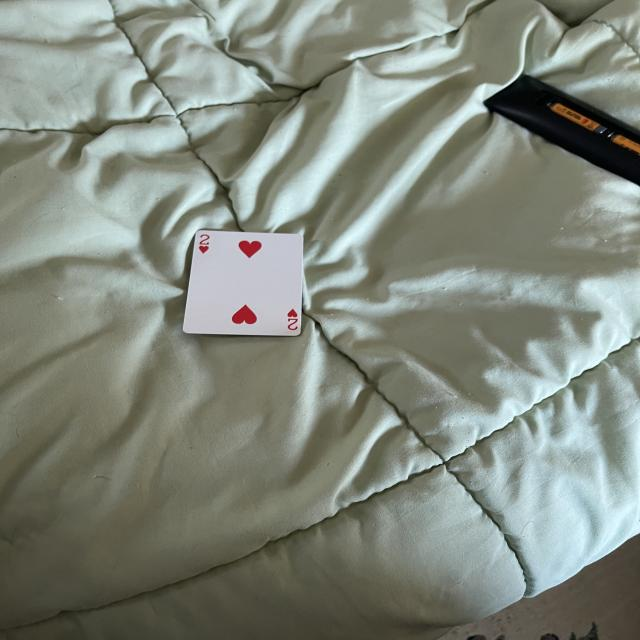2 of hearts: (182, 231, 304, 340)
